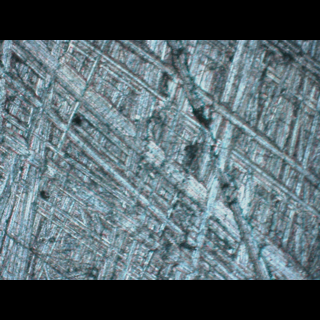d: (51, 39, 319, 275)
